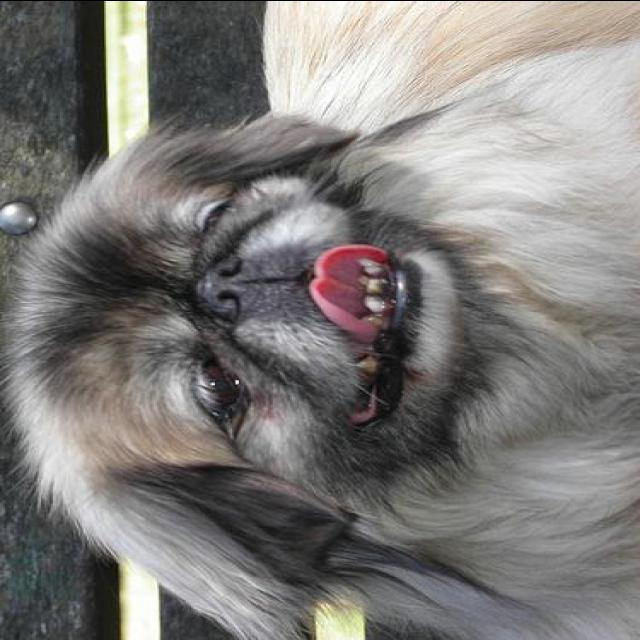pekinese: (4, 1, 638, 636)
